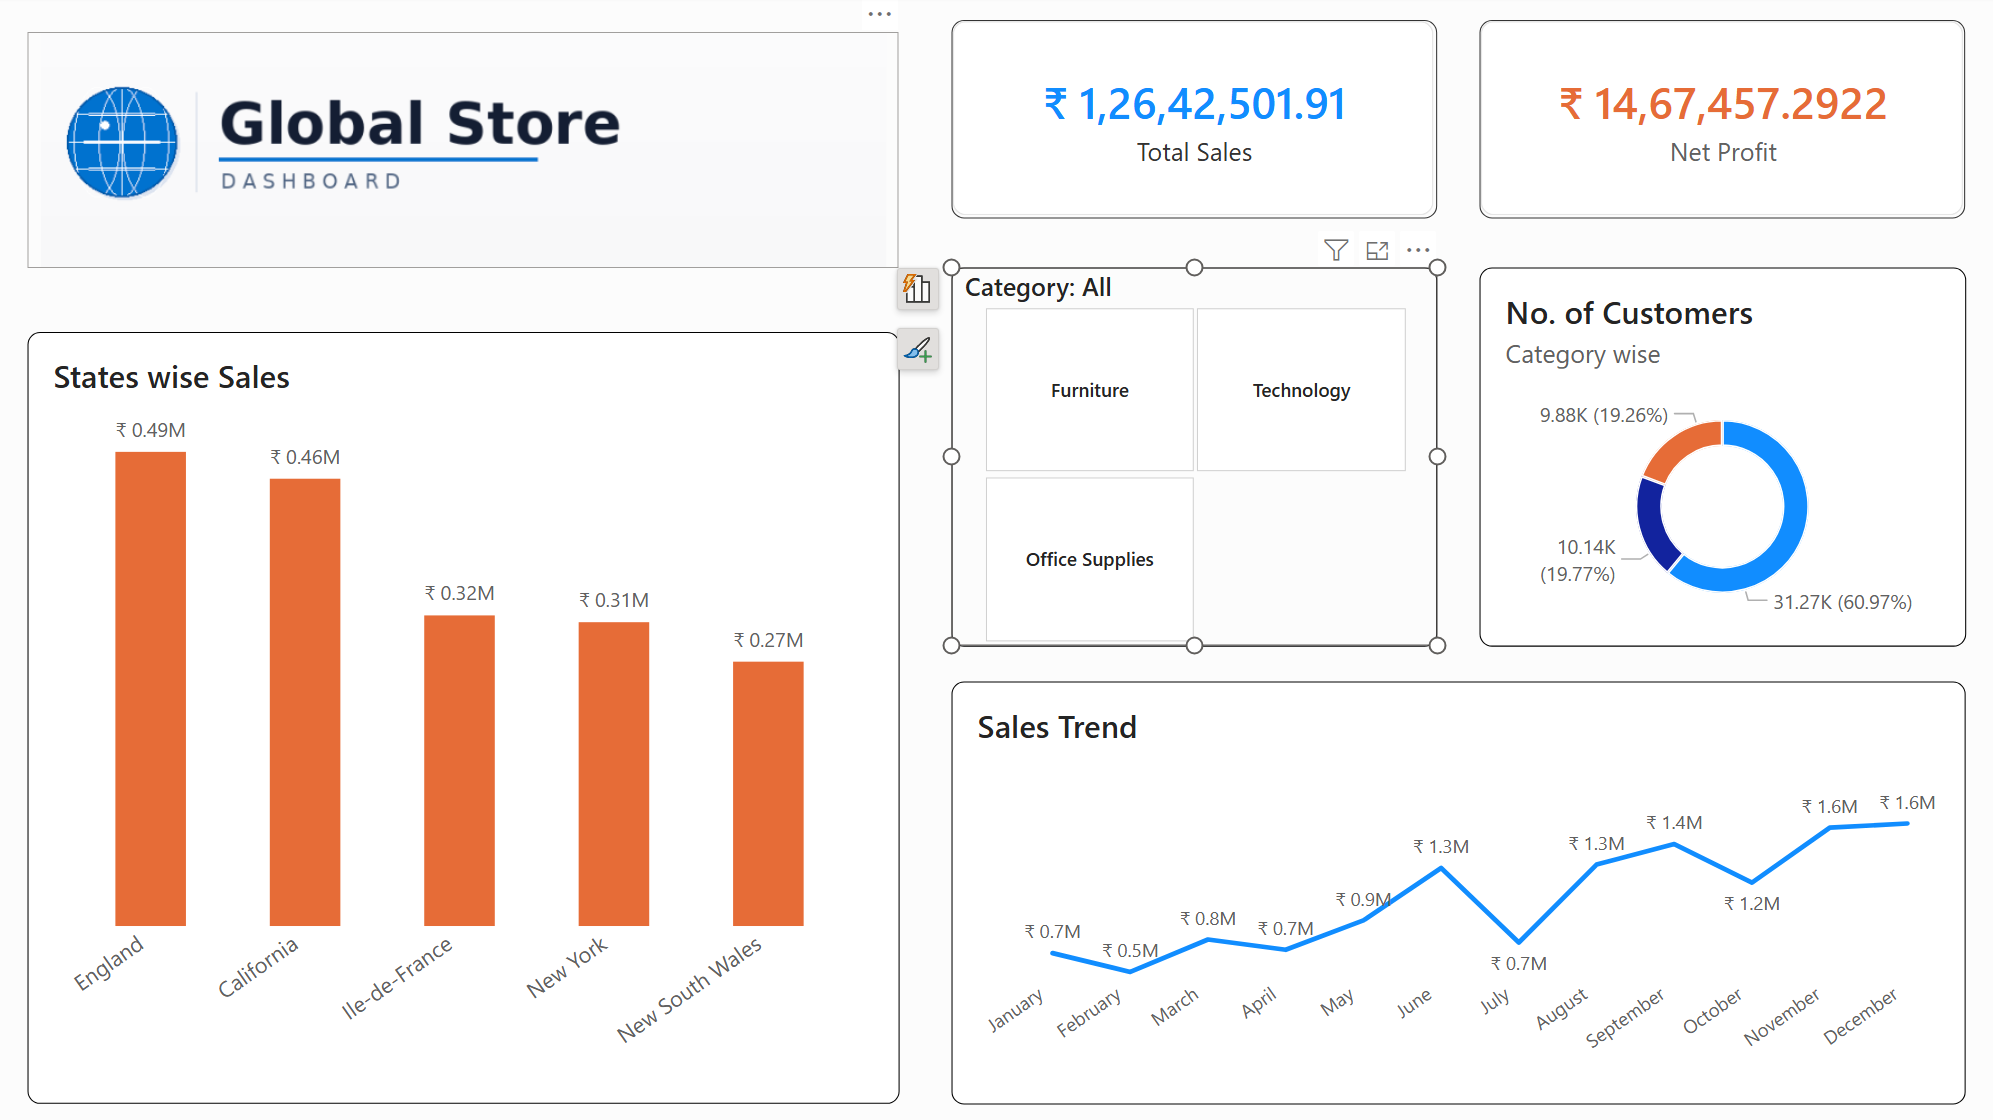

What the dashboard file says about the page in this screenshot:
{"tool":"powerbi","page":{"name":"Page 1","canvas":[1280,720],"ordinal":0},"visuals":[{"type":"cardVisual","fields":{"Data":["Sum(Global Superstore.Sales)"]},"box":[610.4,15,309.7,126.9],"z":0},{"type":"cardVisual","fields":{"Data":["Sum(Global Superstore.Profit)"]},"box":[946.9,15.3,310.2,126.4],"z":1000},{"type":"lineChart","title":"Sales Trend","fields":{"Category":["Global Superstore.Order Date.Variation.Date Hierarchy.Year","Global Superstore.Order Date.Variation.Date Hierarchy.Quarter","Global Superstore.Order Date.Variation.Date Hierarchy.Month","Global Superstore.Order Date.Variation.Date Hierarchy.Day"],"Y":["Sum(Global Superstore.Sales)"]},"box":[610.4,437.5,647.3,269.7],"z":2000},{"type":"columnChart","title":"States wise Sales","fields":{"Category":["Global Superstore.State"],"Y":["Sum(Global Superstore.Sales)"]},"box":[20,214.8,556.4,492.5],"z":3000},{"type":"donutChart","title":"No. of Customers","fields":{"Category":["Global Superstore.Category"],"Y":["CountNonNull(Global Superstore.Customer ID)"]},"box":[947,172.8,310.7,241.7],"z":4000},{"type":"slicer","fields":{"Values":["Global Superstore.Category"]},"box":[610.4,172.8,309.7,241.7],"z":5000},{"type":"image","box":[20,23,556.4,149.8],"z":5001}]}

Visuals, with their boxes in screenshot pixels (x1, y1, x2, y2), scaled from the page's 1280x720 canvas onto the 1993x1120 screenshot:
cardVisual - Sum(Global Superstore.Sales): region(950, 23, 1433, 221)
cardVisual - Sum(Global Superstore.Profit): region(1474, 24, 1957, 220)
"Sales Trend" lineChart: region(950, 681, 1958, 1100)
"States wise Sales" columnChart: region(31, 334, 897, 1100)
"No. of Customers" donutChart: region(1475, 269, 1958, 645)
slicer - Global Superstore.Category: region(950, 269, 1433, 645)
image: region(31, 36, 897, 269)
